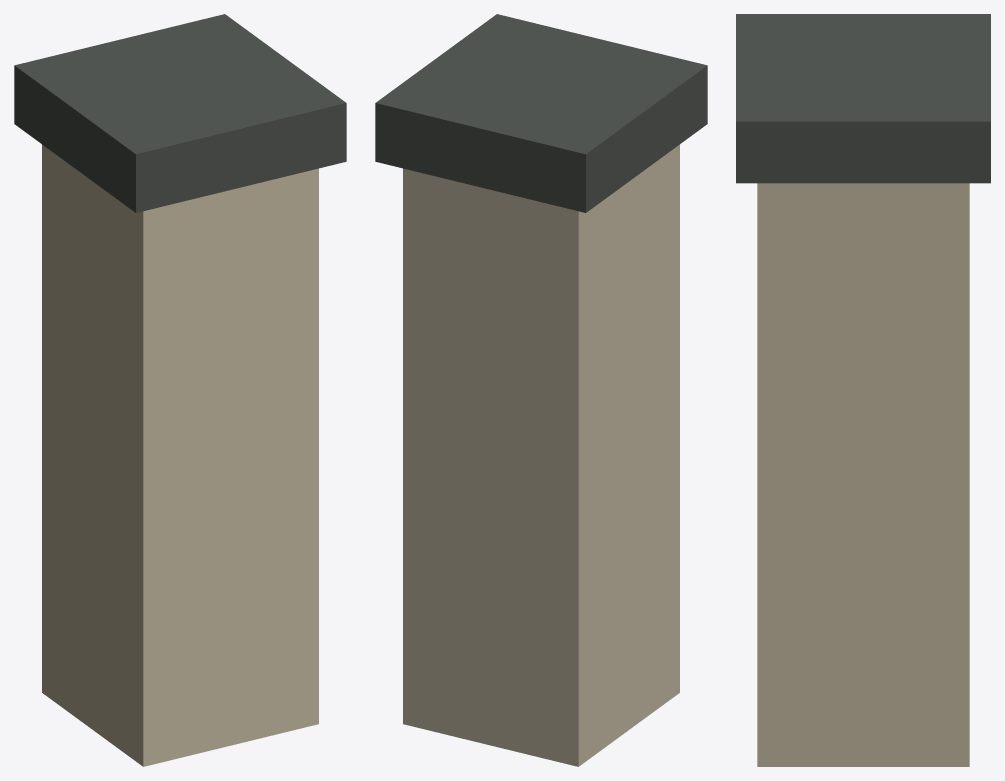
File: restored-lighthouse.glb
The picture shows the model from 3 angles, left to right: view 1: azimuth 30°, elevation 25°; view 2: azimuth 150°, elevation 25°; view 3: azimuth 270°, elevation 25°; orthographic projection. The views are drawn at different scales.
Parts seen in each view (by area): view 1: restored-lighthouse-static-lighthouse-wall, restored-lighthouse-static-lighthouse-roof; view 2: restored-lighthouse-static-lighthouse-wall, restored-lighthouse-static-lighthouse-roof; view 3: restored-lighthouse-static-lighthouse-wall, restored-lighthouse-static-lighthouse-roof.
Part boxes in pixels (x1,y1,x2,y2): restored-lighthouse-static-lighthouse-wall: (42,144,318,766); restored-lighthouse-static-lighthouse-roof: (14,14,346,212); restored-lighthouse-static-lighthouse-wall: (403,144,679,766); restored-lighthouse-static-lighthouse-roof: (375,14,707,212); restored-lighthouse-static-lighthouse-wall: (757,183,969,766); restored-lighthouse-static-lighthouse-roof: (736,14,990,183).
Size of the model in its own units: 3 by 8.5 by 3.
